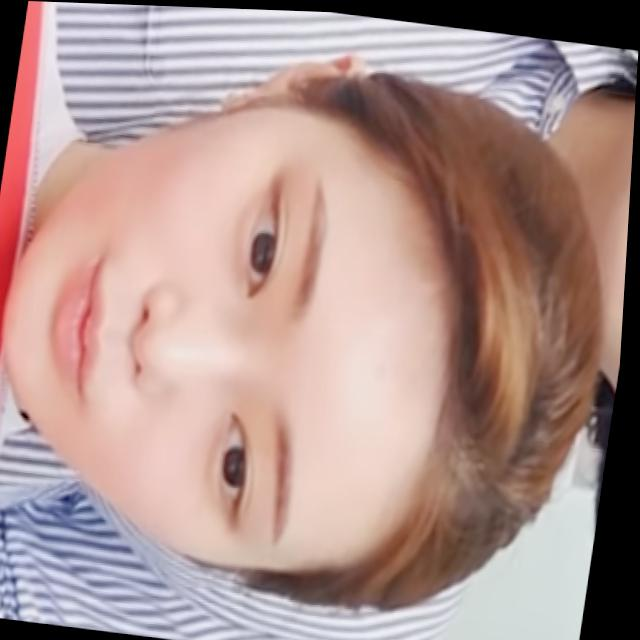face: (0, 29, 586, 617)
